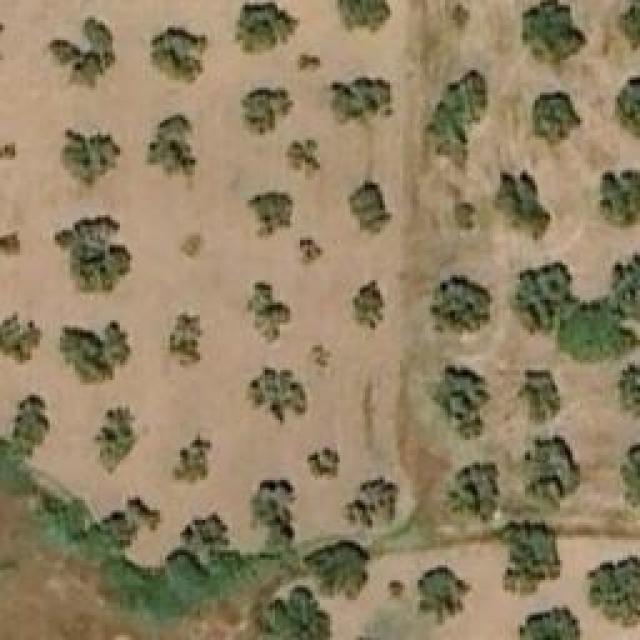Tree: (420, 70, 488, 173), (55, 215, 130, 293), (557, 299, 640, 362), (60, 323, 135, 386), (500, 520, 563, 595), (50, 18, 115, 88), (60, 130, 123, 198), (145, 113, 198, 193), (435, 365, 490, 440), (523, 0, 586, 65), (492, 170, 550, 238), (303, 538, 368, 598), (587, 554, 640, 627), (525, 438, 578, 511), (318, 78, 393, 128), (430, 275, 493, 333), (245, 367, 308, 425), (513, 262, 576, 320), (235, 0, 300, 55), (150, 27, 210, 85), (243, 283, 296, 346), (267, 587, 330, 640), (418, 565, 473, 625), (95, 405, 138, 475), (240, 85, 295, 138), (533, 90, 583, 145), (445, 463, 495, 518), (597, 170, 640, 230), (253, 475, 296, 535), (348, 478, 398, 528), (607, 249, 640, 322), (247, 190, 295, 240), (10, 395, 48, 458), (518, 370, 561, 423), (0, 312, 42, 365), (173, 430, 213, 483), (167, 313, 205, 368), (350, 183, 390, 233), (335, 0, 390, 35), (518, 610, 581, 640), (353, 280, 386, 330), (615, 78, 640, 141), (178, 518, 223, 551), (288, 138, 321, 178), (620, 443, 640, 508), (617, 362, 640, 417), (617, 0, 640, 52), (305, 448, 340, 481), (298, 238, 323, 268), (308, 344, 334, 372), (448, 0, 473, 28), (180, 233, 203, 258), (0, 233, 20, 258), (455, 203, 475, 228), (298, 52, 323, 70), (0, 145, 15, 160)
